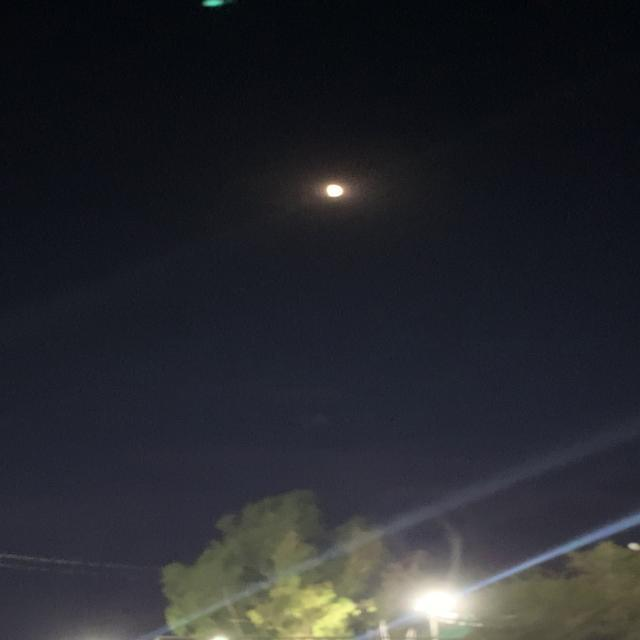moon: (312, 177, 368, 204)
